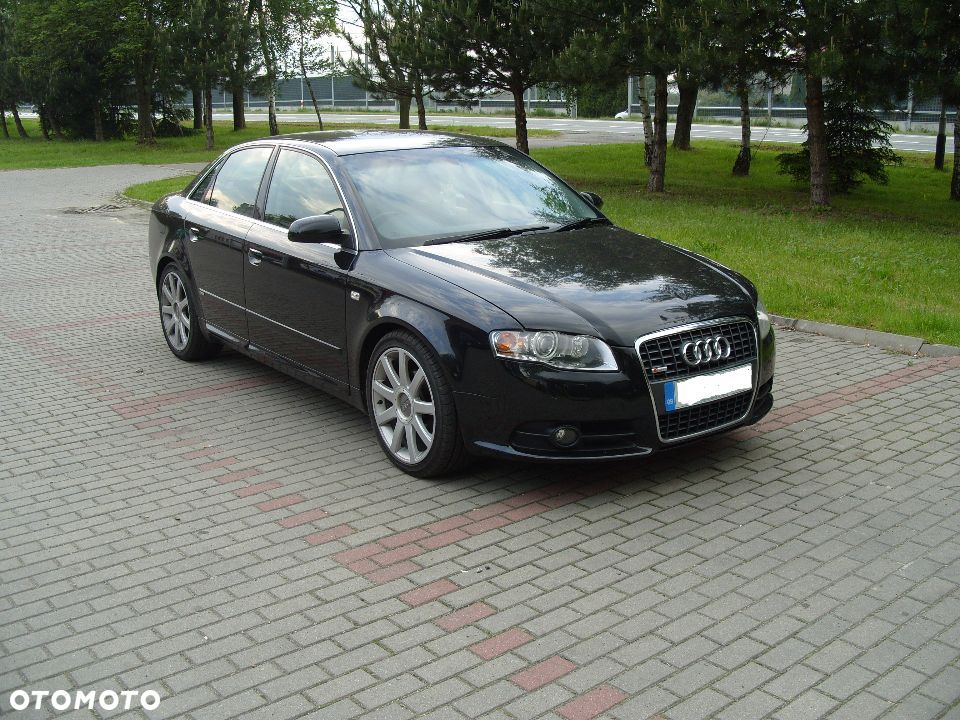car: (146, 129, 775, 487)
